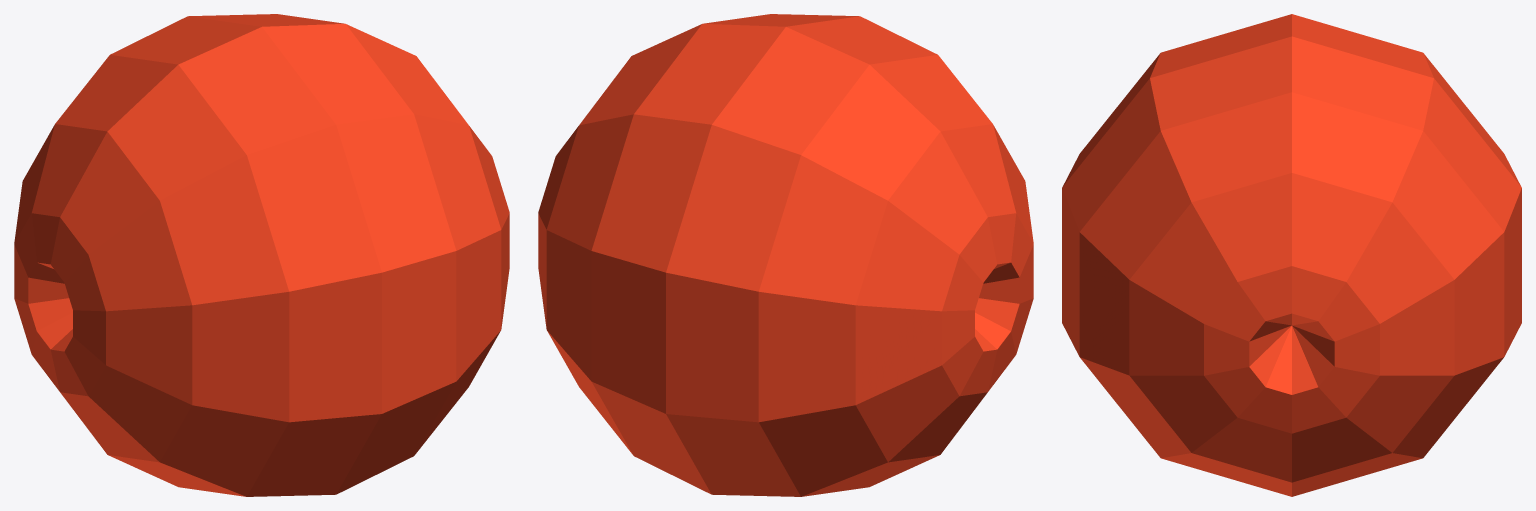
File: SM_Buoy_Line_End_A_City.fbx
3 views of the same model, side by side, from view 1: azimuth 30°, elevation 25°; view 2: azimuth 150°, elevation 25°; view 3: azimuth 270°, elevation 25° (orthographic). The views are drawn at different scales.
Parts seen in each view (by area): view 1: SM_Buoy_Line_End_A_City; view 2: SM_Buoy_Line_End_A_City; view 3: SM_Buoy_Line_End_A_City.
Part boxes in pixels (<box>): SM_Buoy_Line_End_A_City: <box>14,14,509,496</box>; SM_Buoy_Line_End_A_City: <box>538,14,1033,496</box>; SM_Buoy_Line_End_A_City: <box>1062,14,1521,496</box>.
Bounding box in the file's own units: 0.4833 × 0.4998 × 0.4753.
